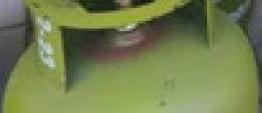cylinder: (1, 0, 262, 113)
